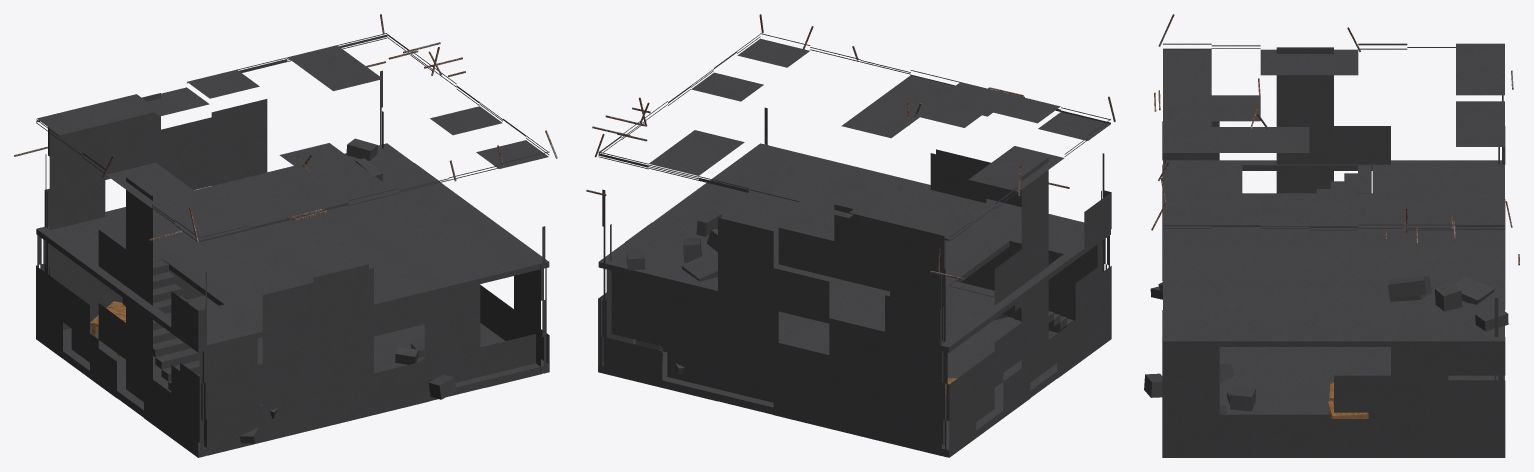
File: ruined_building.glb
3 renders of one model, left to right at view 1: azimuth 30°, elevation 25°; view 2: azimuth 150°, elevation 25°; view 3: azimuth 270°, elevation 25°, orthographic. The views are drawn at different scales.
Visible parts, largest first — view 1: RuinedBuilding; view 2: RuinedBuilding; view 3: RuinedBuilding.
Part boxes in pixels (left/top/right/bottom): RuinedBuilding: left=14, top=14, right=557, bottom=457; RuinedBuilding: left=586, top=14, right=1115, bottom=457; RuinedBuilding: left=1144, top=14, right=1519, bottom=457.
Bounding box in the file's own units: 11.48 × 6.72 × 8.77.
Materials: 3 (3 with a texture image).
